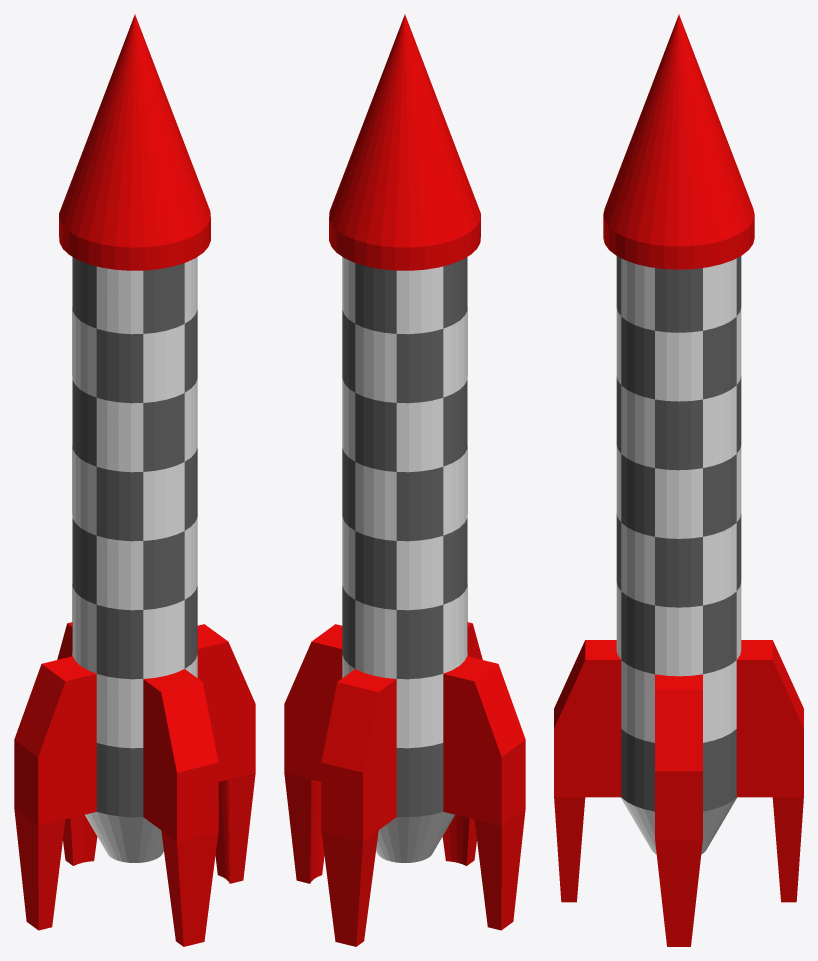
Rendered from Rocket.fbx.
3 views of the same model, side by side, from view 1: azimuth 30°, elevation 25°; view 2: azimuth 150°, elevation 25°; view 3: azimuth 270°, elevation 25° (orthographic).
Visible parts, largest first — view 1: Rocket; view 2: Rocket; view 3: Rocket.
Part boxes in pixels (x1,y1,x2,y2): Rocket: [14, 14, 255, 946]; Rocket: [284, 14, 525, 946]; Rocket: [554, 14, 803, 946].
Size of the model in its own units: 41.2 by 161 by 41.2.
